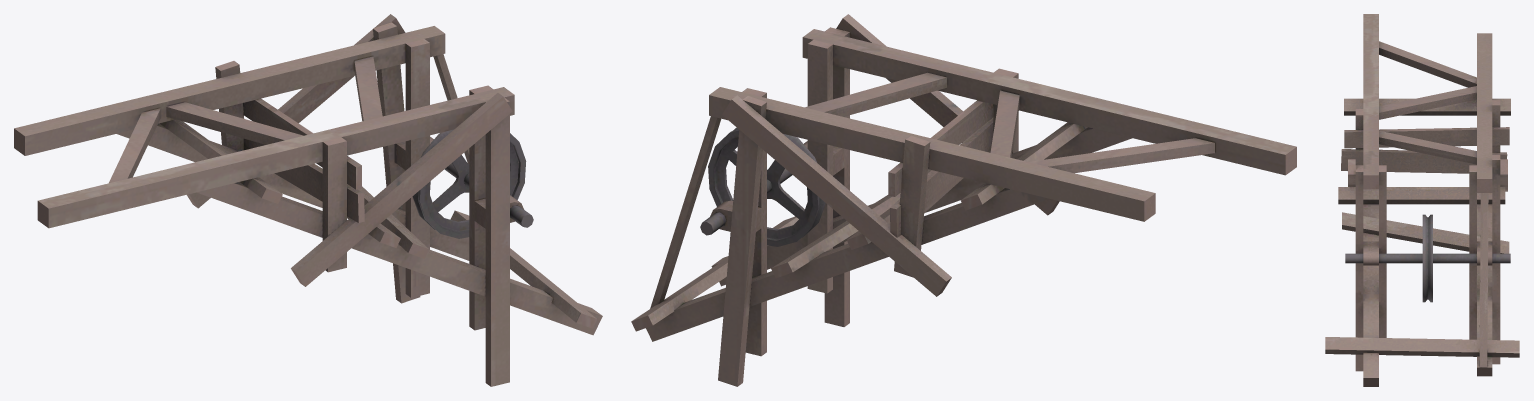
File: props_mining_crane001_small.glb
The picture shows the model from 3 angles, left to right: view 1: azimuth 30°, elevation 25°; view 2: azimuth 150°, elevation 25°; view 3: azimuth 270°, elevation 25°; orthographic projection. The views are drawn at different scales.
Parts seen in each view (by area): view 1: models/props_mining/crane001_small; view 2: models/props_mining/crane001_small; view 3: models/props_mining/crane001_small.
Part boxes in pixels (box(x1,y1,x2,y2)): models/props_mining/crane001_small: box(14, 14, 602, 386); models/props_mining/crane001_small: box(631, 14, 1296, 386); models/props_mining/crane001_small: box(1325, 14, 1519, 386).
Bounding box in the file's own units: 229 × 116 × 97.88.
Materials: 1 (1 with a texture image).
